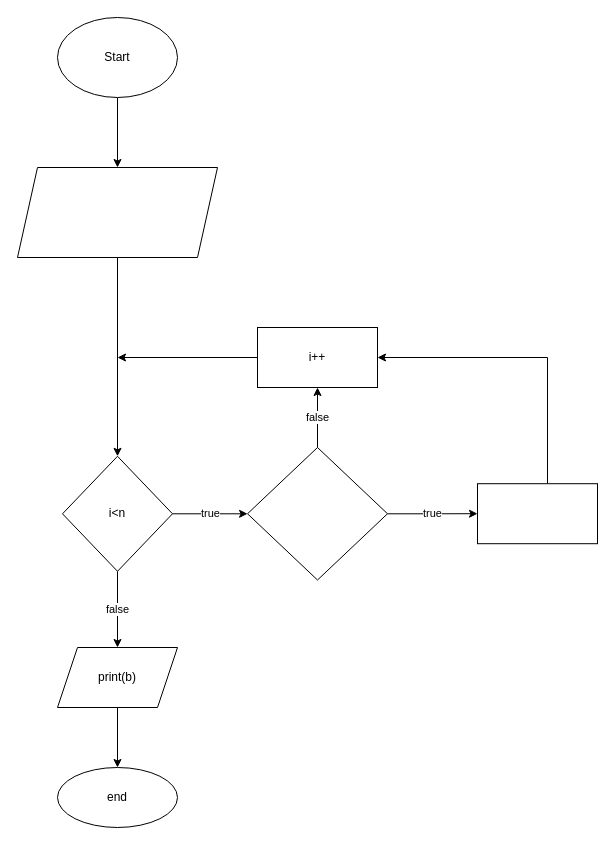
This 615x845 diagram has some shape labels left out. The shapes that lost their labels are listed below. From the top down, each one's centre as x and y in pixels, then its label:
the point at 117,212: let i, arry[i], n, a, b=0
the point at 317,513: arry[i]%a==0
the point at 537,513: b=b+1
